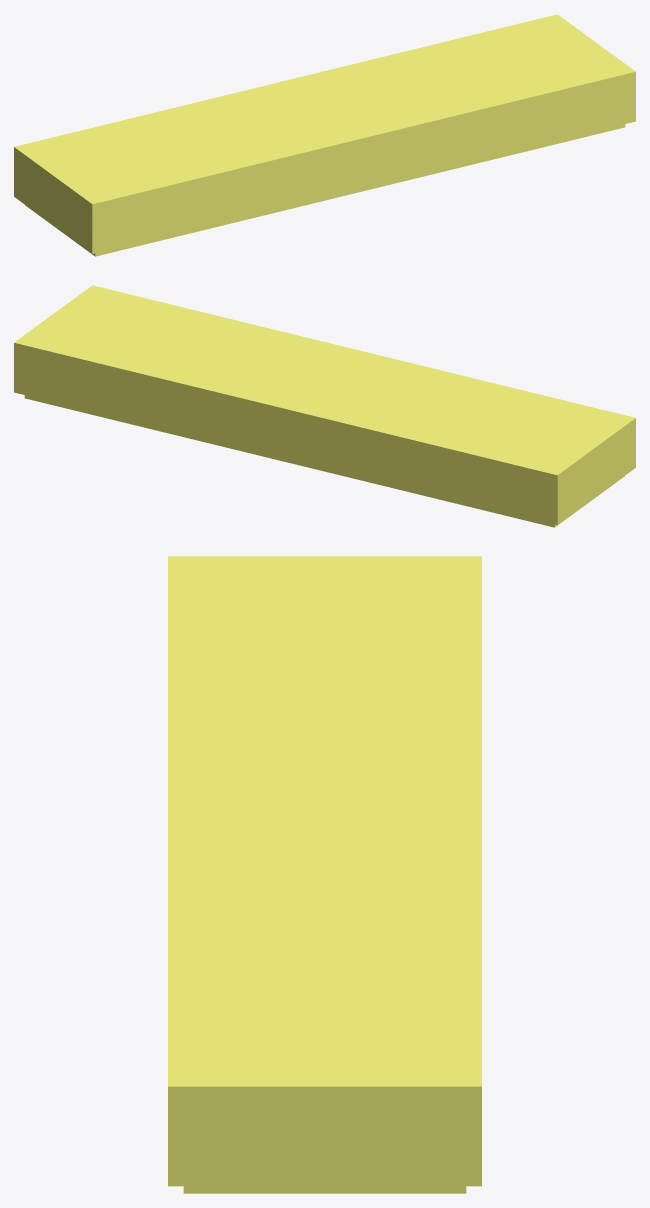
The picture shows the model from 3 angles, top to bottom: view 1: azimuth 30°, elevation 25°; view 2: azimuth 150°, elevation 25°; view 3: azimuth 270°, elevation 25°; orthographic projection. The views are drawn at different scales.
Parts seen in each view (by area): view 1: 2431.dat; view 2: 2431.dat; view 3: 2431.dat.
Part boxes in pixels (x1,y1,x2,y2): 2431.dat: (14, 14, 635, 256); 2431.dat: (14, 285, 635, 527); 2431.dat: (168, 556, 481, 1193).
Size of the model in its own units: 0.032 by 0.0032 by 0.008.
